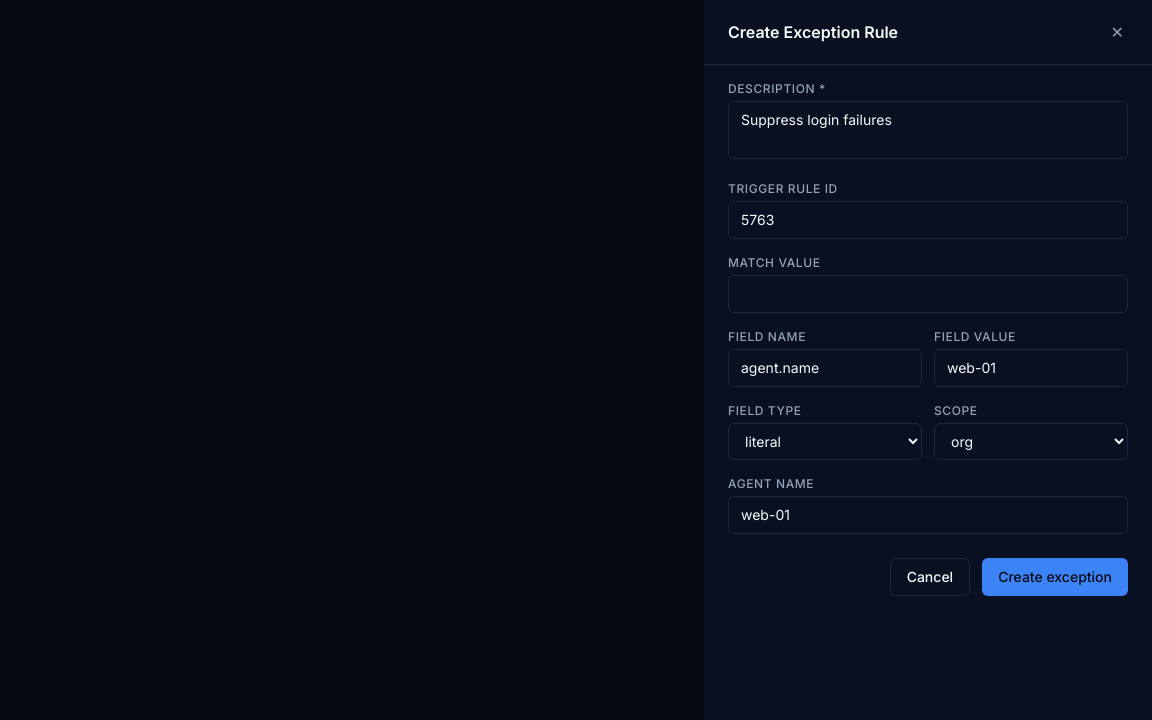
it: CreateExceptionSlideOver › shows inline error on API failure without closing
Click the button "Create exception". click: x=1055, y=577
box: [982, 558, 1128, 596]
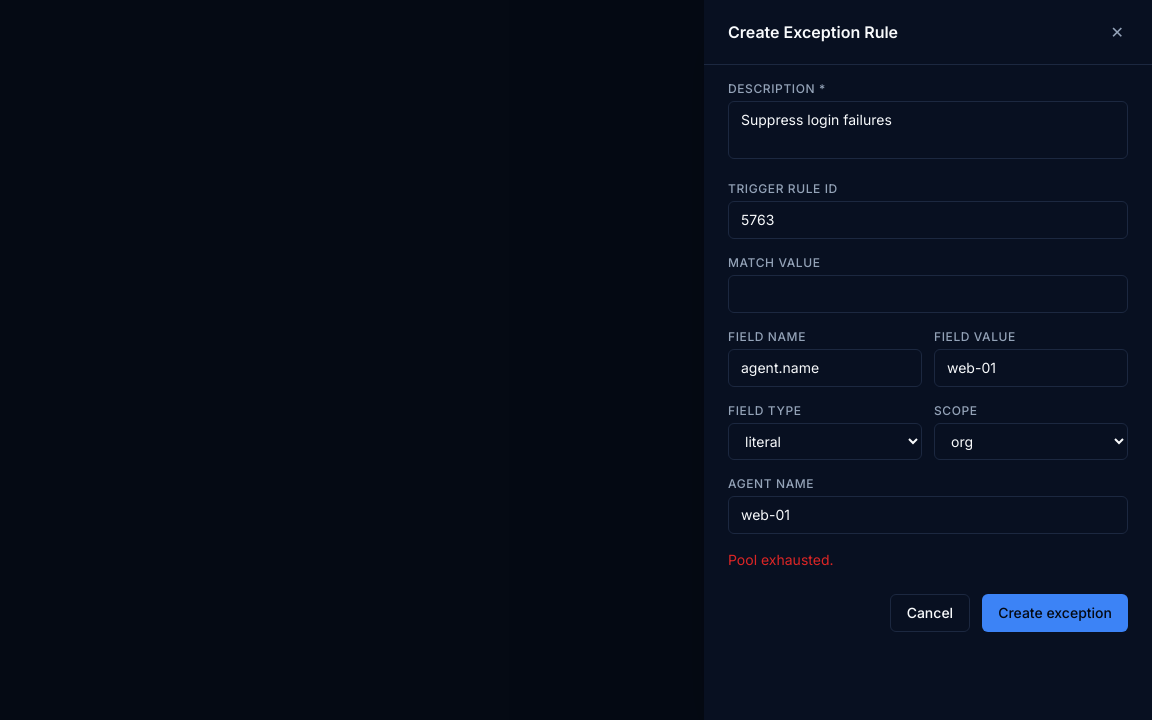
Now the text "Pool exhausted." is shown, box [728, 551, 834, 568]
